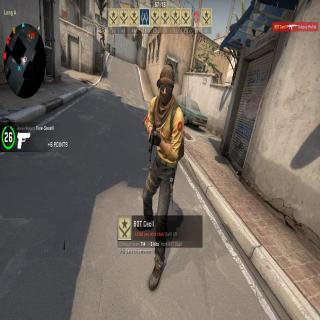T-Body: (138, 65, 186, 291), (99, 27, 105, 44)
T-Head: (157, 66, 175, 105), (101, 28, 102, 31)
